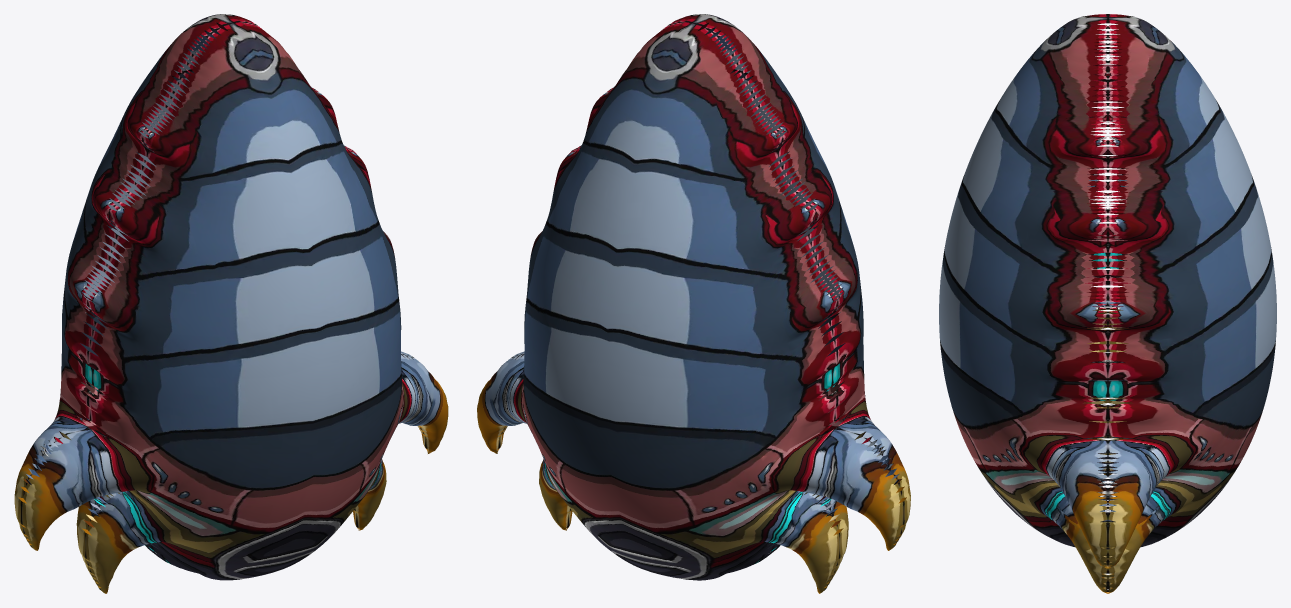
File: spire_machine.glb
3 renders of one model, left to right at view 1: azimuth 30°, elevation 25°; view 2: azimuth 150°, elevation 25°; view 3: azimuth 270°, elevation 25°, orthographic. The views are drawn at different scales.
Visible parts, largest first — view 1: spire_machine; view 2: spire_machine; view 3: spire_machine.
Part boxes in pixels (x1,y1,x2,y2): spire_machine: (14,14,448,593); spire_machine: (477,14,910,593); spire_machine: (939,14,1276,593).
Size of the model in its own units: 0.9864 by 1.21 by 0.7183.
1 material, 1 textured.
